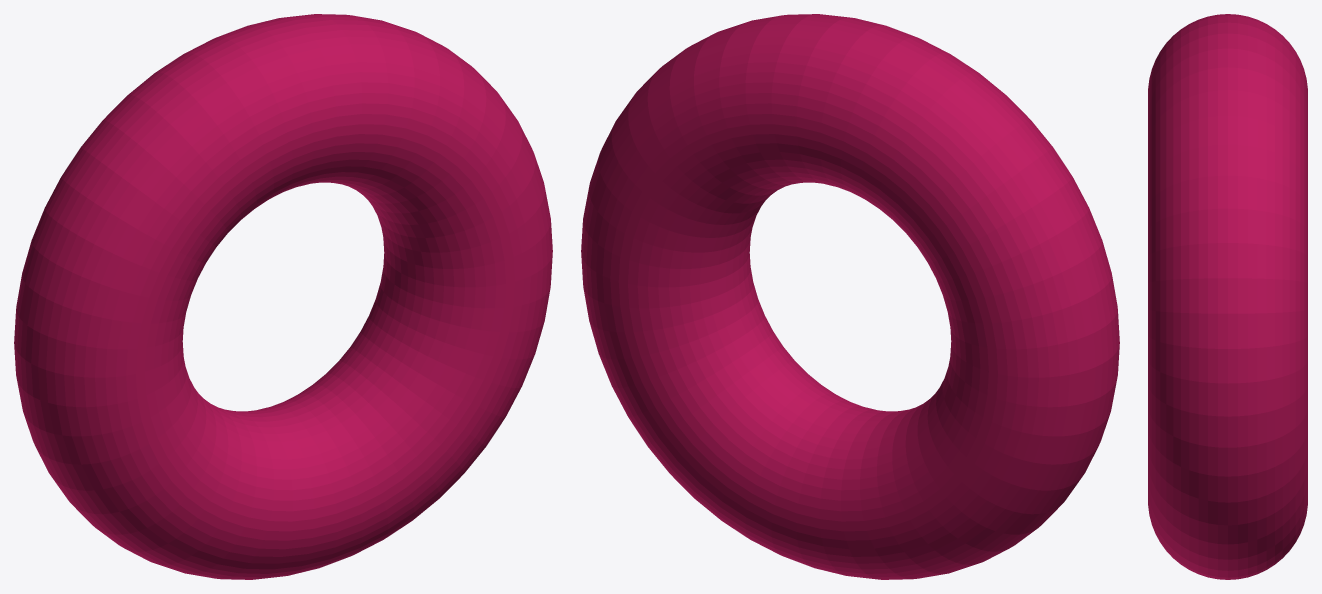
3 renders of one model, left to right at view 1: azimuth 30°, elevation 25°; view 2: azimuth 150°, elevation 25°; view 3: azimuth 270°, elevation 25°, orthographic. The views are drawn at different scales.
Visible parts, largest first — view 1: world; view 2: world; view 3: world.
Part boxes in pixels (box(x1,y1,x2,y2)): world: box(14, 14, 552, 579); world: box(581, 14, 1119, 579); world: box(1148, 14, 1307, 579).
Size of the model in its own units: 35.33 by 35.26 by 9.98.
